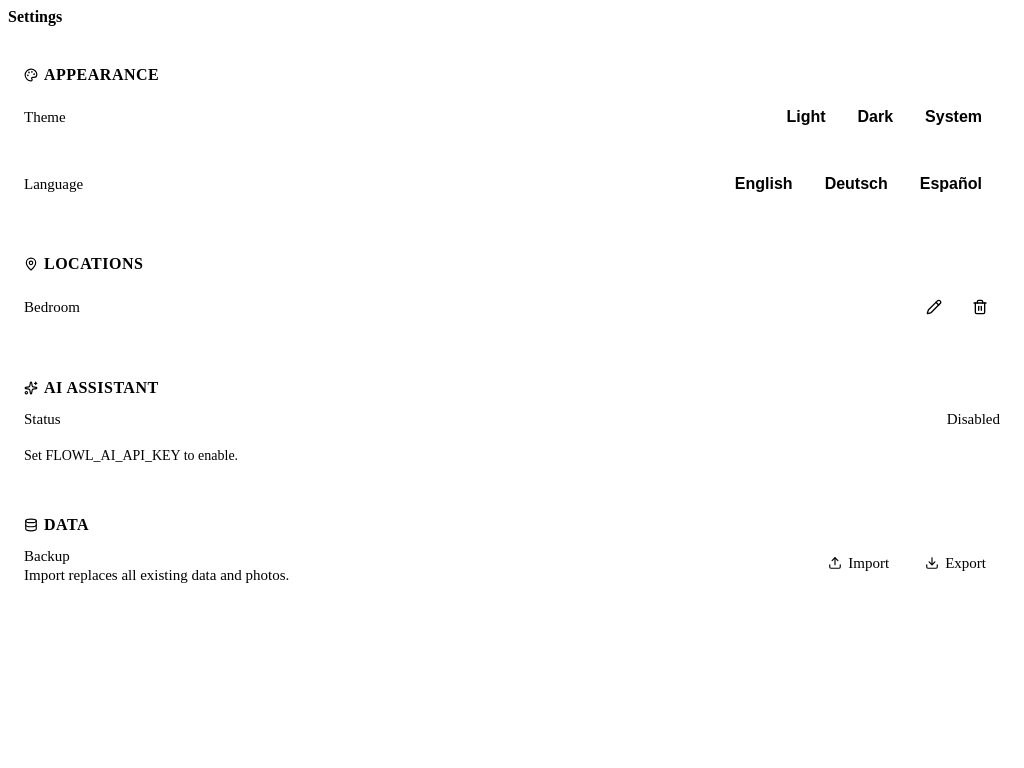
settings locations section › cancels inline editing without saving
Click the 1st button with class "btn-icon".
click(934, 307)  # box [914,287,954,327]
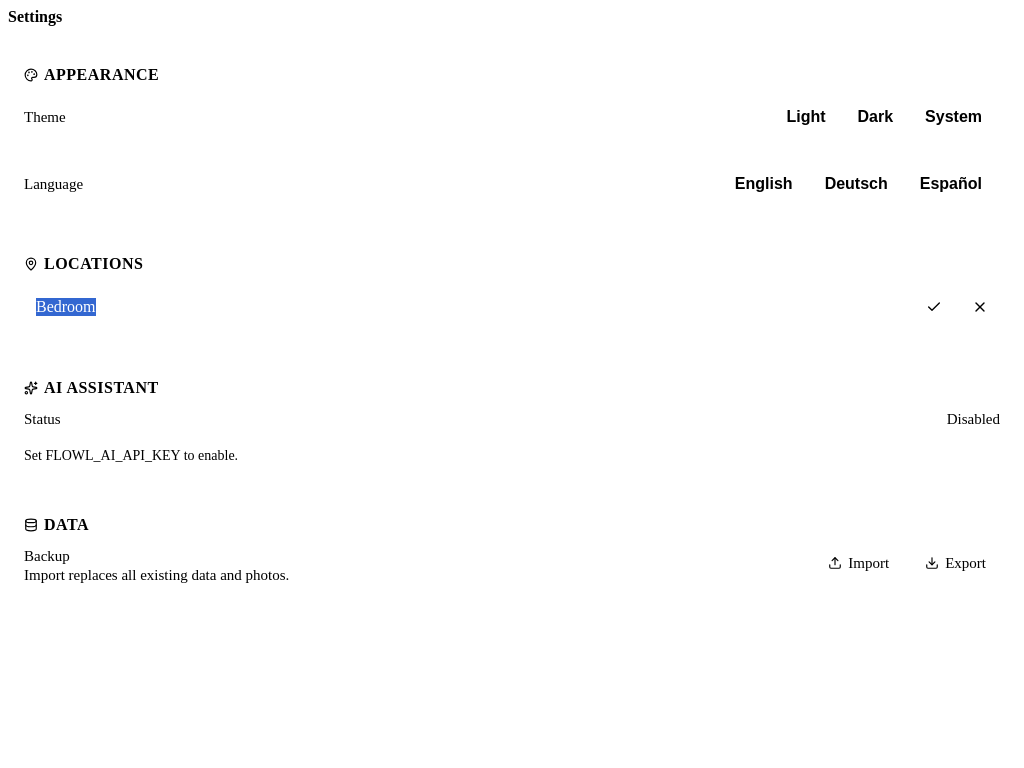
Replace the text in the field with class "edit-input" with "Kitchen" at (466, 307), box [24,287,908,327]
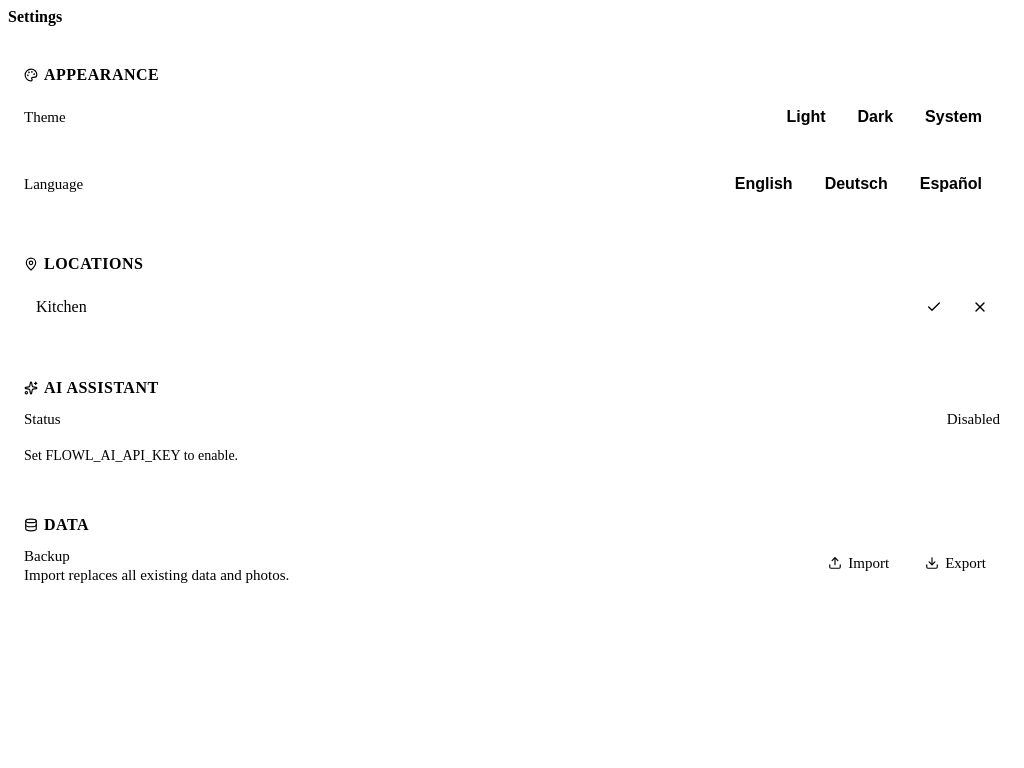
Click the button named "Cancel".
click(980, 307)  # box [960,287,1000,327]
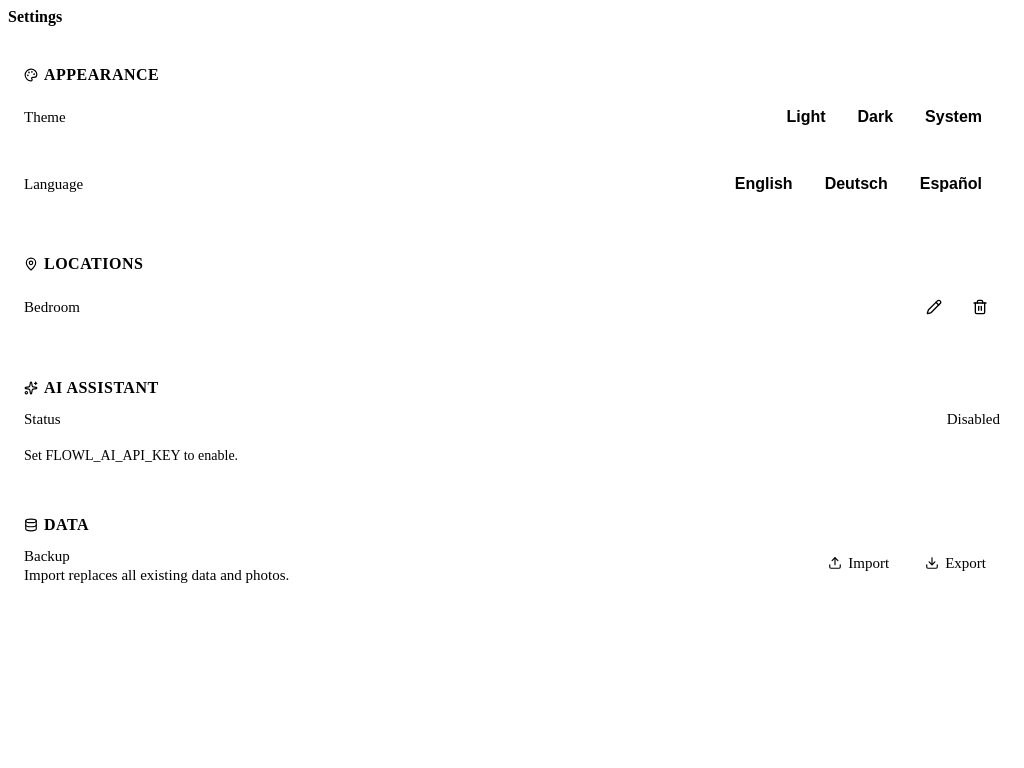
Check: the field is gone
Check: the text "Bedroom" is shown, box [24,298,80,316]
